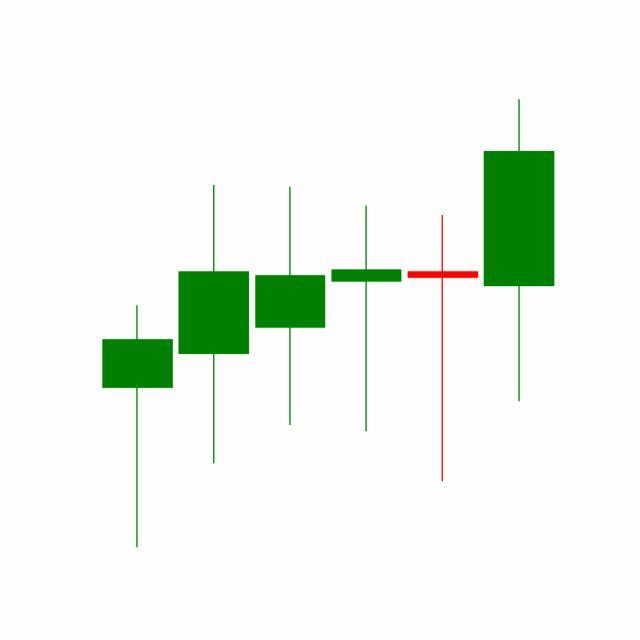Hikkake Pattern: (175, 100, 555, 488)
